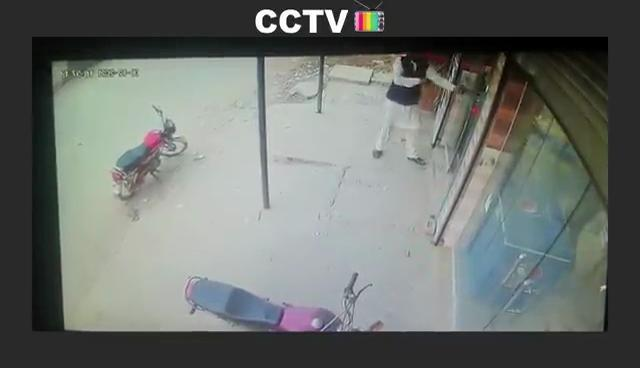criminal: (372, 53, 480, 166)
weapon: (454, 81, 479, 100)
